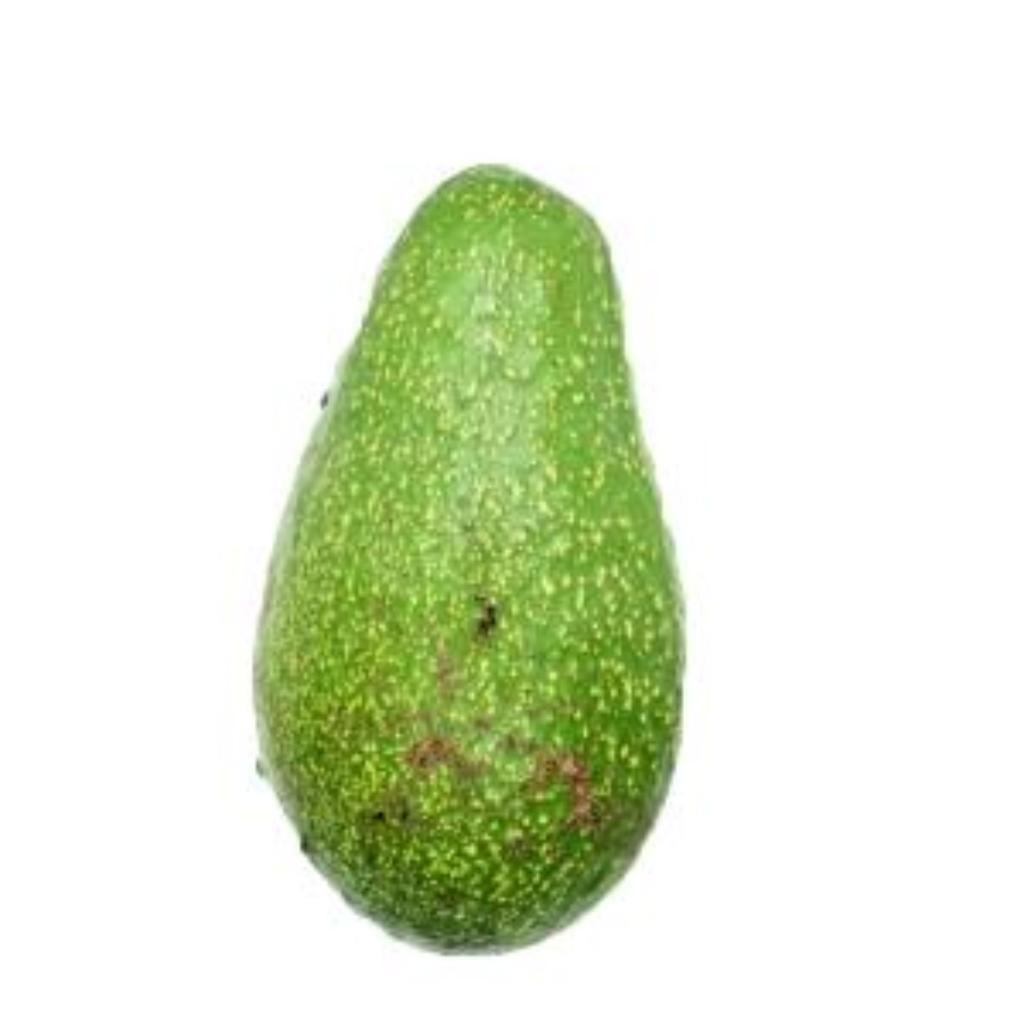cercospora_spot: (252, 123, 704, 959)
